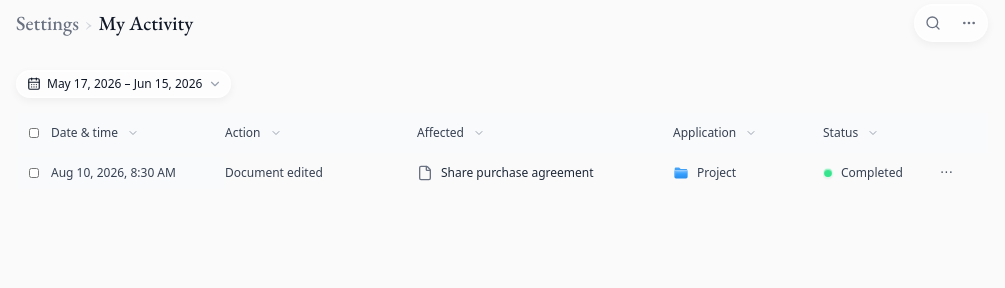
Test: MyActivitySettingsPage › keeps a failed export's selection and shows an intentional error
Click the checkbox named "Select Share purchase agreement": [34, 173] box left=29, top=168, right=39, bottom=178
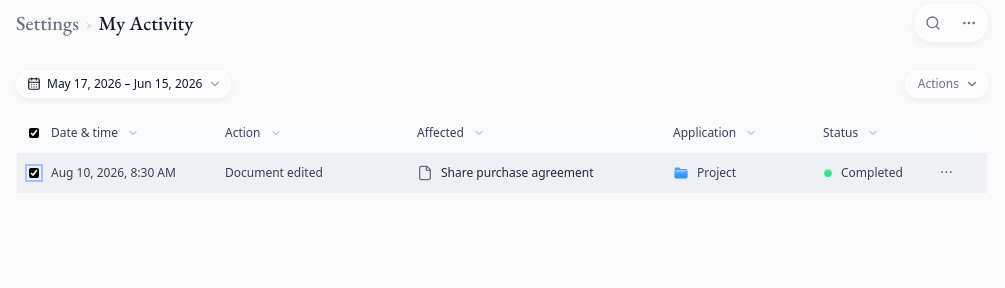
Click the button "Actions": [946, 84] box left=905, top=70, right=988, bottom=98
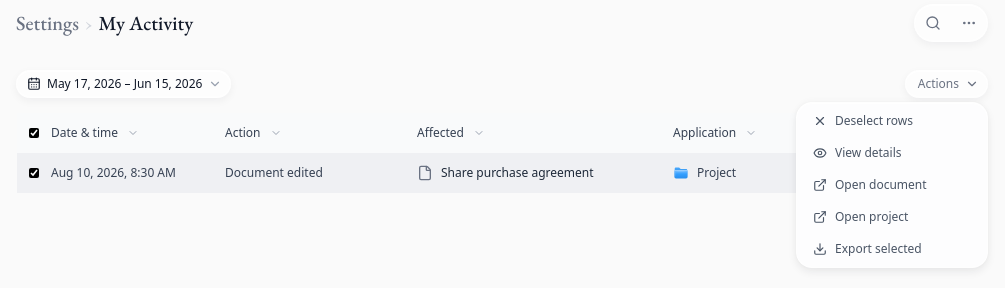
Click the menu item "Export selected": [867, 248] box left=813, top=240, right=922, bottom=257
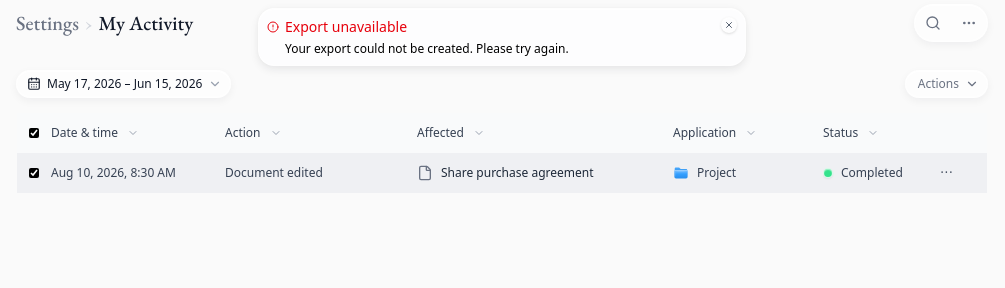
Result: the message shows "Your export could not be created. Please try again." at left=285, top=40, right=569, bottom=57
